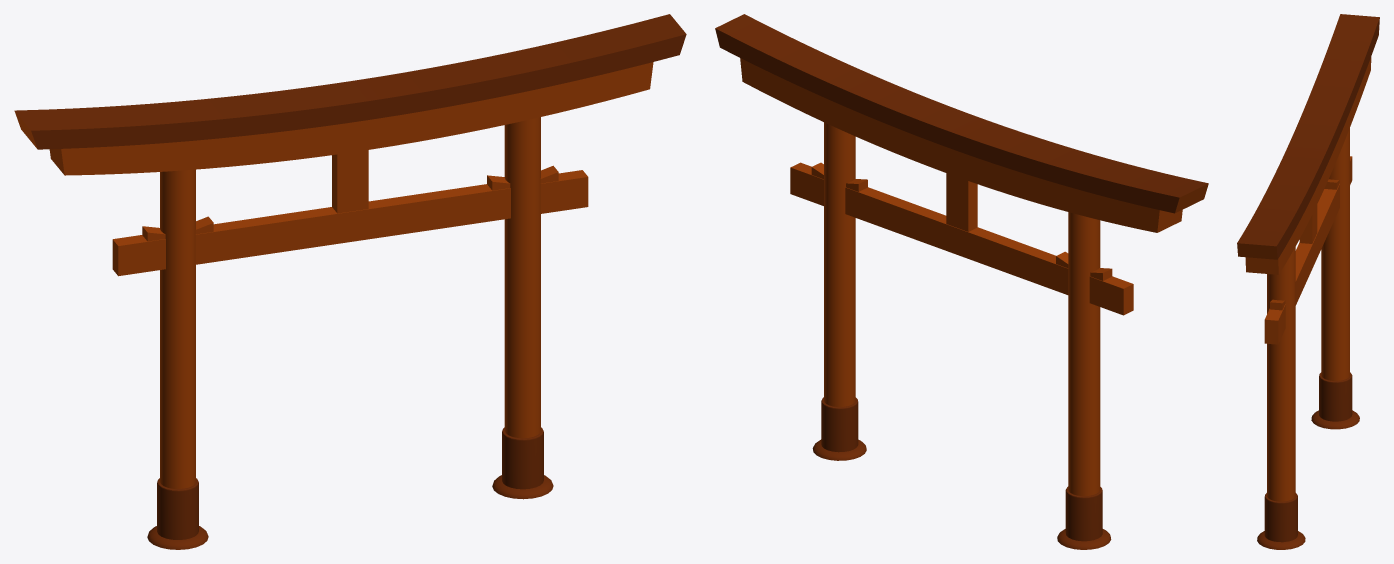
Rendered from toriigate.fbx.
The picture shows the model from 3 angles, left to right: view 1: azimuth 30°, elevation 25°; view 2: azimuth 150°, elevation 25°; view 3: azimuth 270°, elevation 25°; orthographic projection. The views are drawn at different scales.
Parts seen in each view (by area): view 1: torri:Torii1group42; view 2: torri:Torii1group42; view 3: torri:Torii1group42.
Part boxes in pixels (bbox=[...]): torri:Torii1group42: bbox=[14, 14, 686, 549]; torri:Torii1group42: bbox=[715, 14, 1208, 549]; torri:Torii1group42: bbox=[1237, 14, 1379, 549].
Size of the model in its own units: 33.82 by 23.7 by 8.79.
